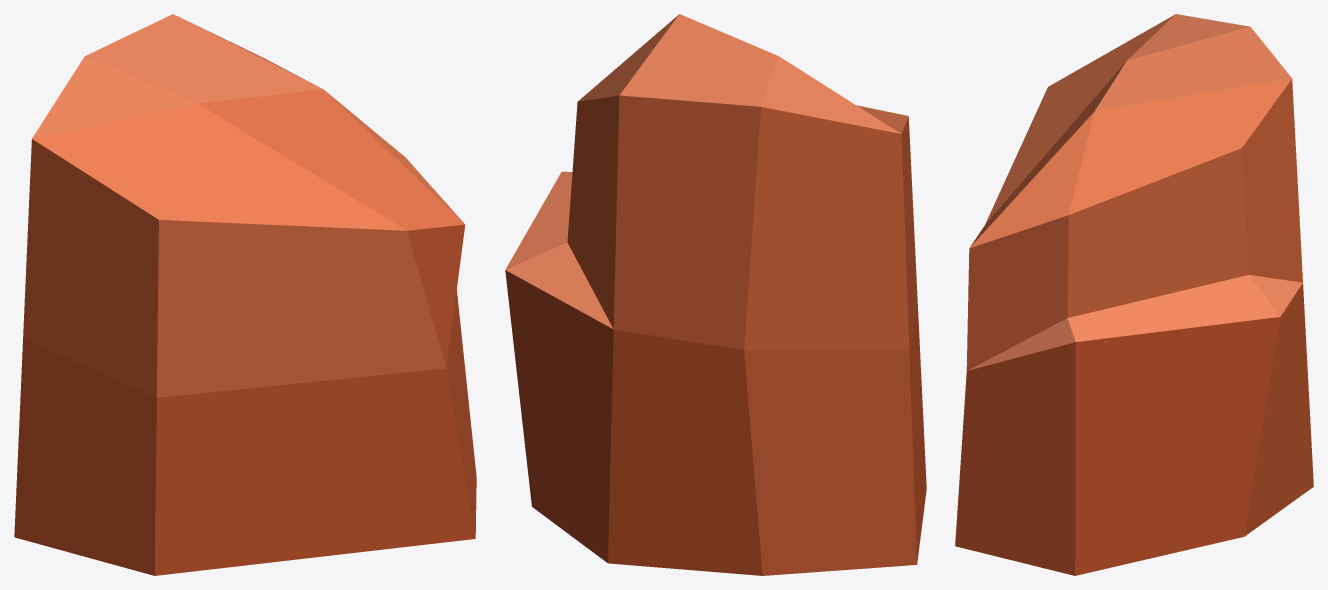
The model's file is rock_04.fbx.
3 views of the same model, side by side, from view 1: azimuth 30°, elevation 25°; view 2: azimuth 150°, elevation 25°; view 3: azimuth 270°, elevation 25° (orthographic). The views are drawn at different scales.
Visible parts, largest first — view 1: rock_04; view 2: rock_04; view 3: rock_04.
Part boxes in pixels (<box>): rock_04: <box>14,14,476,575</box>; rock_04: <box>505,14,926,575</box>; rock_04: <box>955,14,1313,575</box>.
Bounding box in the file's own units: 634 × 634 × 504.
